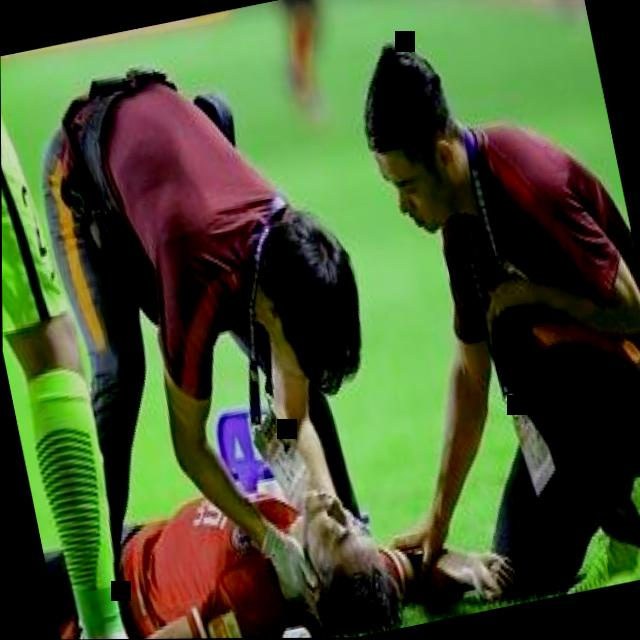Fall-Detected: (29, 394, 555, 640)
